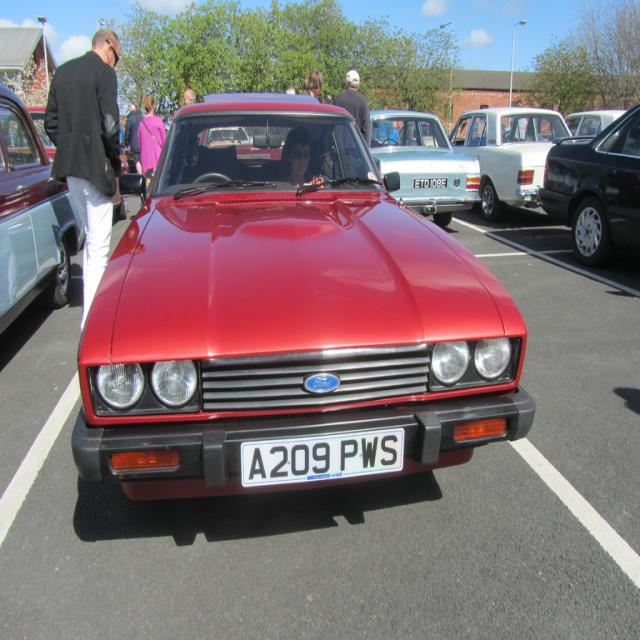car: (73, 82, 541, 498)
